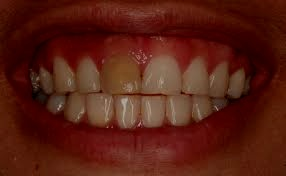Tooth Discoloration: (100, 56, 139, 93)
